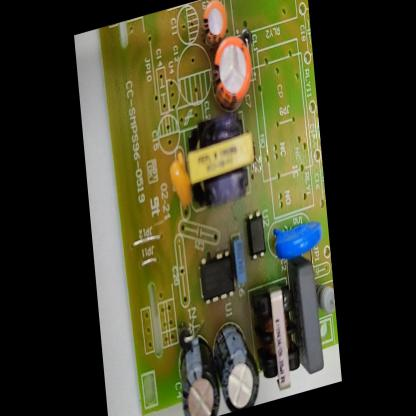Cap1: (206, 27, 258, 114)
Cap2: (196, 0, 232, 49)
Cap3: (211, 313, 263, 415)
Cap4: (174, 323, 222, 416)
MOSFET: (198, 242, 236, 309)
Mov: (266, 207, 324, 266)
Resistor: (314, 277, 336, 319)
Transformer: (184, 100, 260, 219), (252, 278, 299, 399)
